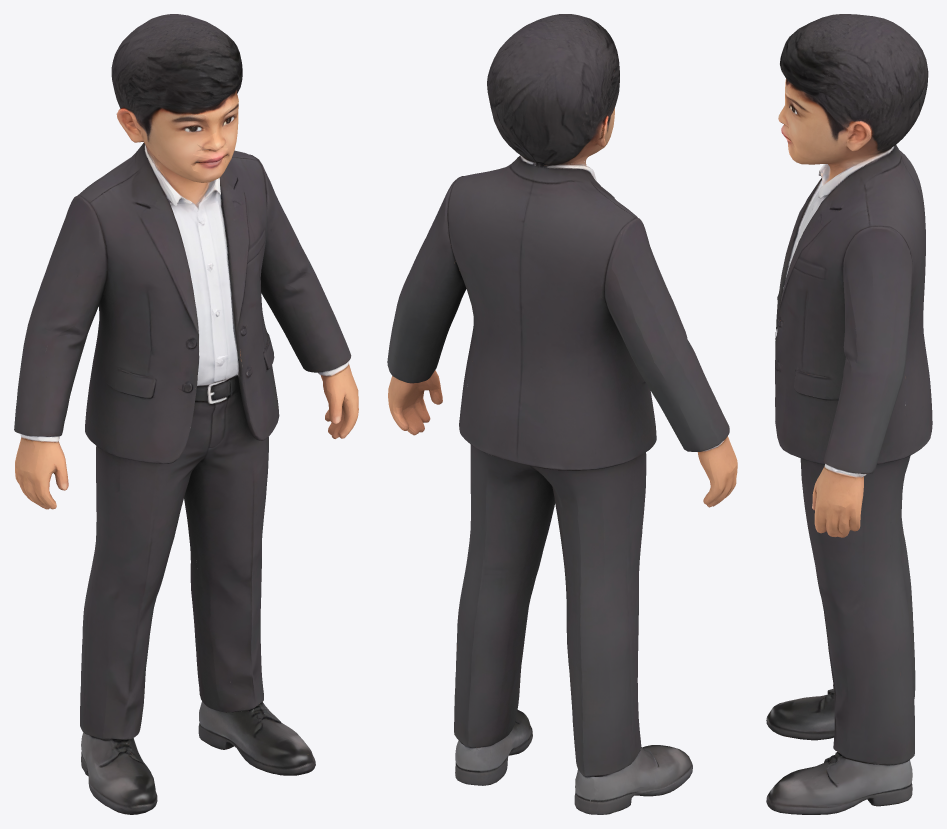
File: 3d-young-boy-in-dark-suit.glb
3 views of the same model, side by side, from view 1: azimuth 30°, elevation 25°; view 2: azimuth 150°, elevation 25°; view 3: azimuth 270°, elevation 25° (orthographic).
Visible parts, largest first — view 1: Mesh; view 2: Mesh; view 3: Mesh.
Part boxes in pixels (x1=…): Mesh: x1=14, y1=14, x2=358, y2=814; Mesh: x1=387, y1=14, x2=737, y2=814; Mesh: x1=766, y1=14, x2=932, y2=814.
Bounding box in the file's own units: 0.9046 × 1.91 × 0.3847.
1 material, 1 textured.
